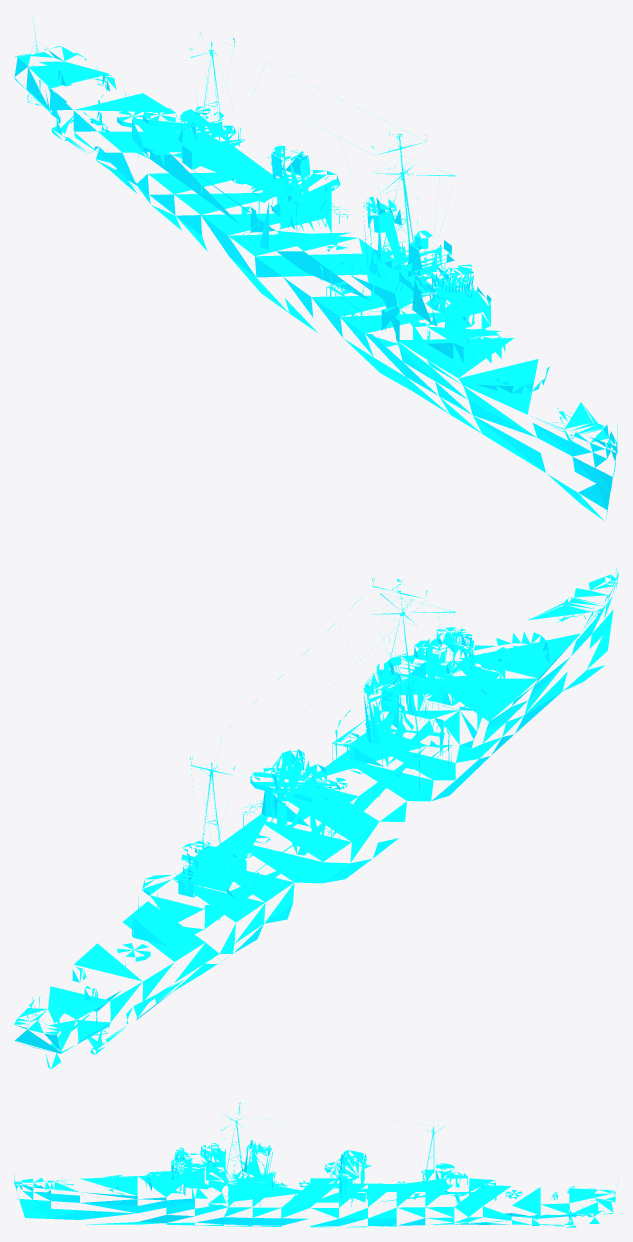
File: Pr_Khabarovsk.glb
The picture shows the model from 3 angles, top to bottom: view 1: azimuth 30°, elevation 25°; view 2: azimuth 150°, elevation 25°; view 3: azimuth 270°, elevation 25°; orthographic projection. The views are drawn at different scales.
Bounding box in the file's own units: 0.9232 × 2.08 × 9.39.
